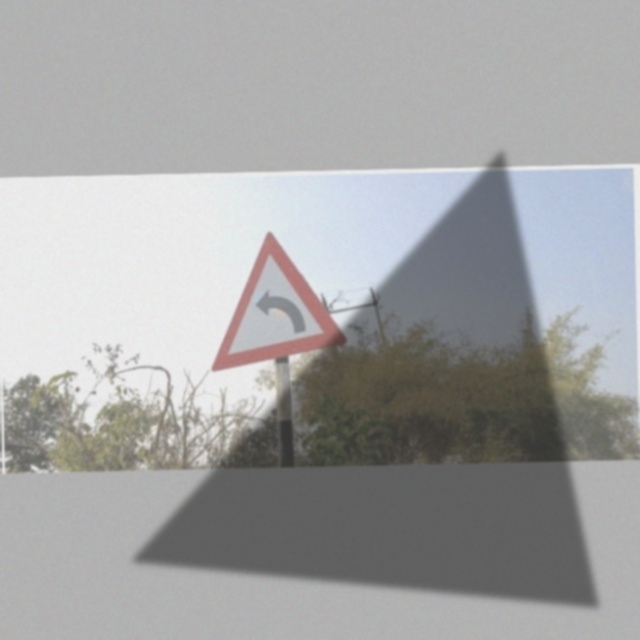Left_Hand_Curve: (207, 227, 339, 366)
